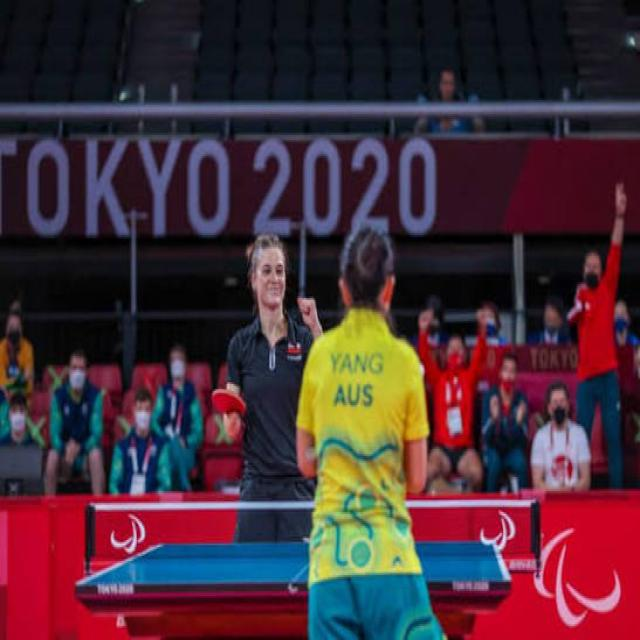TT Net: (84, 495, 544, 574)
TT Racket: (202, 377, 251, 432)
TT Table: (77, 538, 508, 590)
